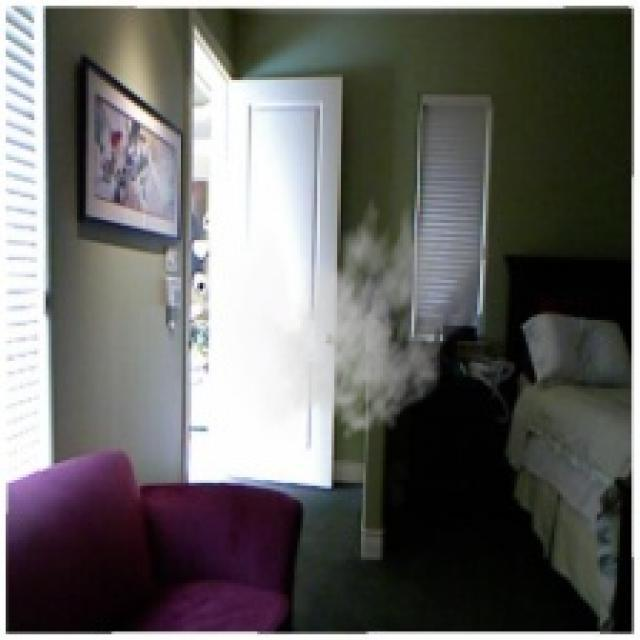Smoke: (248, 186, 492, 443)
